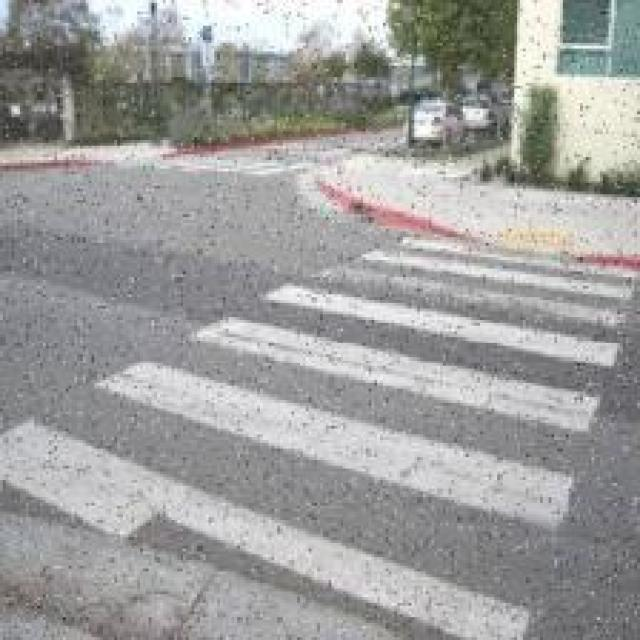walk-crossing: (150, 232, 639, 572), (147, 156, 302, 184)
